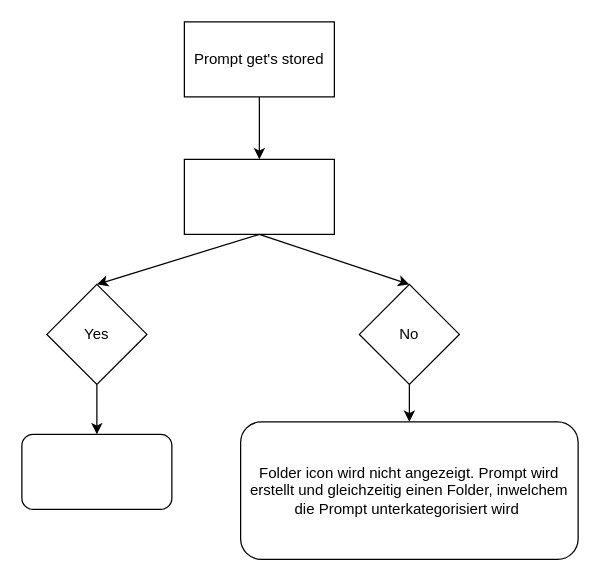
This 600x581 diagram has some shape labels left out. The centre of each missing label's shape, as x and y in pixels:
"Does a folder already exist?" goes at point (258, 196).
"Folder icon wird angezeigt wo man die Prompt einem Ordner zuordnen kann" goes at point (96, 471).
